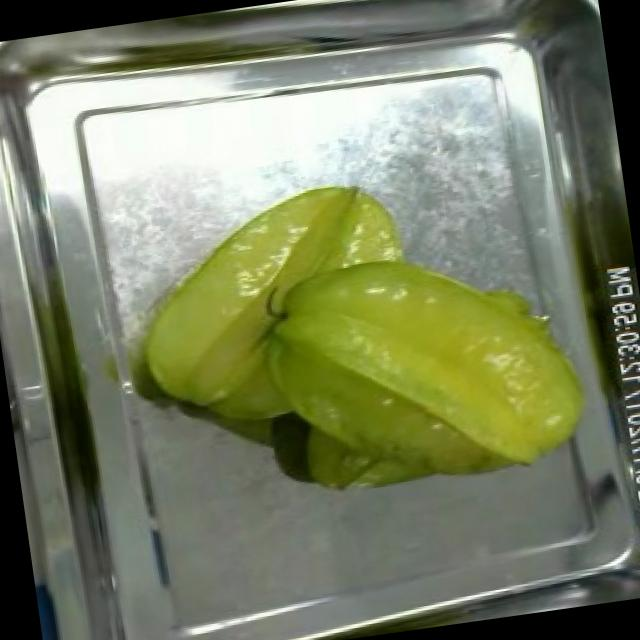fruit: (228, 217, 612, 524), (110, 174, 368, 453)
